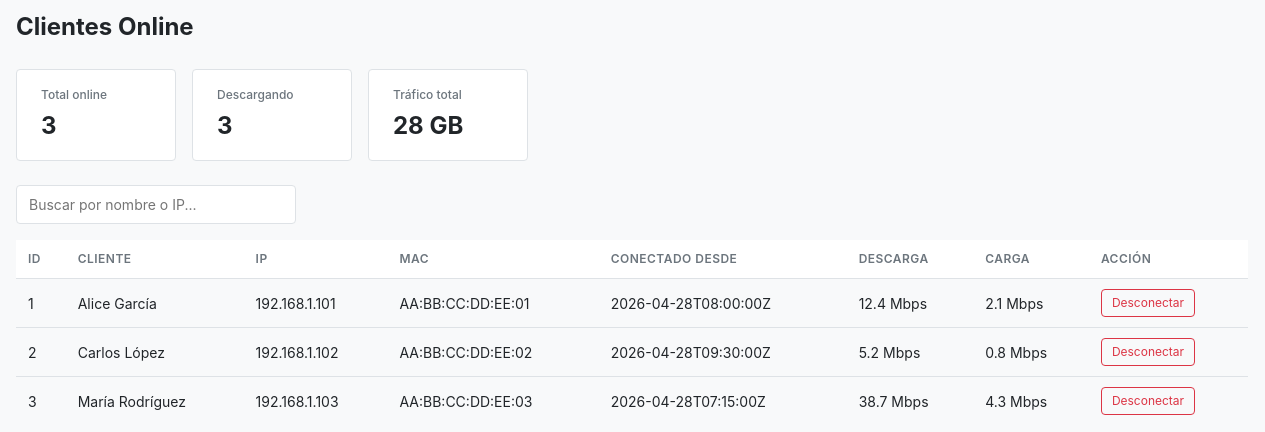
Test: CustomersOnlinePage › search input filters results by client name
This screenshot has width=1265, height=432.
Type "zzznomatch" into the field with placeholder "Buscar por nombre o IP..." at (156, 204), box [16,185,296,224]
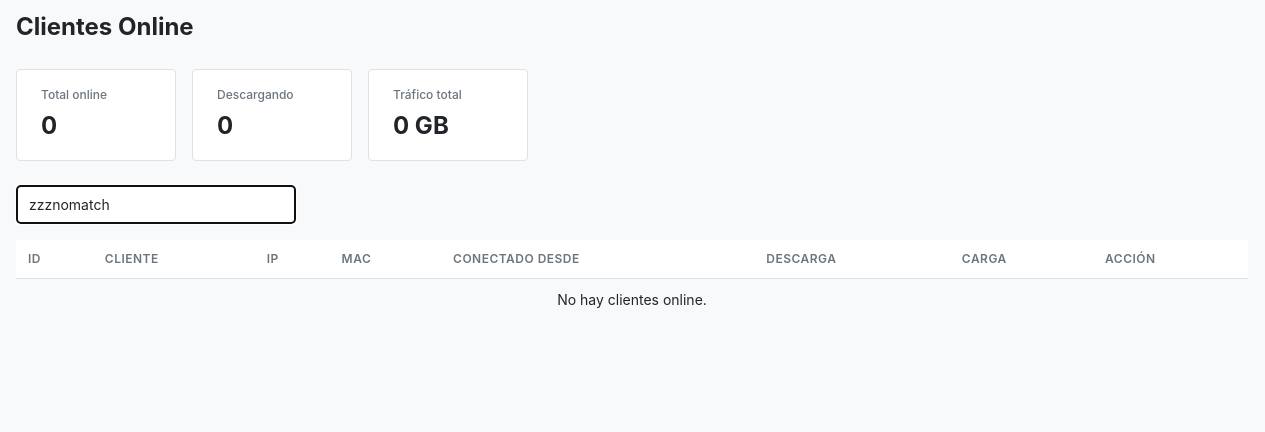
Expected: the text "No hay clientes online." is shown, [16,278,1248,320]
